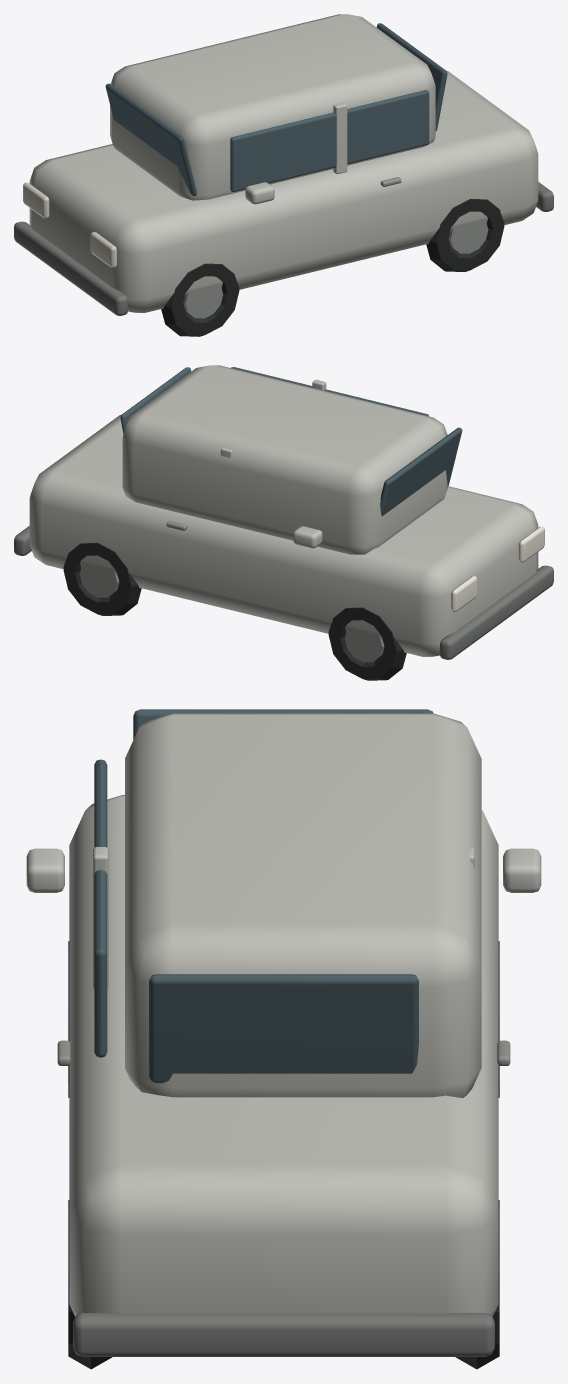
File: kilmore_hatchback_d.glb
3 renders of one model, top to bottom at view 1: azimuth 30°, elevation 25°; view 2: azimuth 150°, elevation 25°; view 3: azimuth 270°, elevation 25°, orthographic. The views are drawn at different scales.
Parts seen in each view (by area): view 1: SM_Kilmore_ParkedHatchback_D_CombinedMesh; view 2: SM_Kilmore_ParkedHatchback_D_CombinedMesh; view 3: SM_Kilmore_ParkedHatchback_D_CombinedMesh.
Boxes of the visible parts, x1=… form: SM_Kilmore_ParkedHatchback_D_CombinedMesh: x1=14, y1=14, x2=553, y2=336; SM_Kilmore_ParkedHatchback_D_CombinedMesh: x1=14, y1=365, x2=553, y2=680; SM_Kilmore_ParkedHatchback_D_CombinedMesh: x1=26, y1=709, x2=541, y2=1369.
Size of the model in its own units: 4.2 by 1.86 by 2.14.
